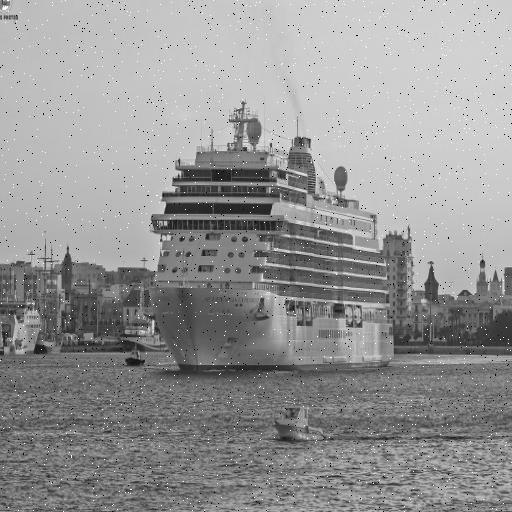cruises: (148, 97, 400, 382)
